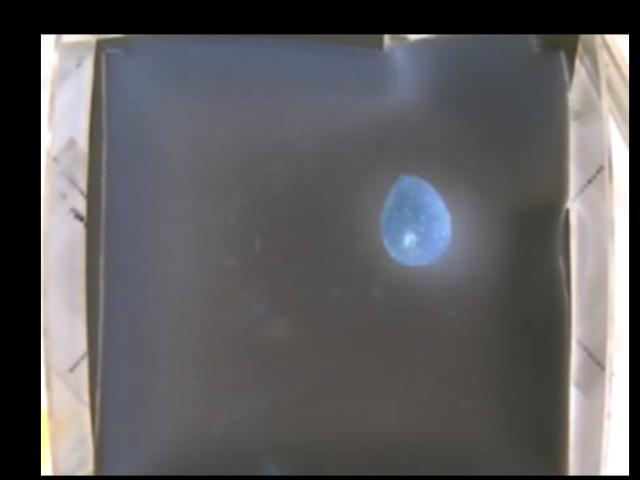Potato: (382, 173, 449, 265)
